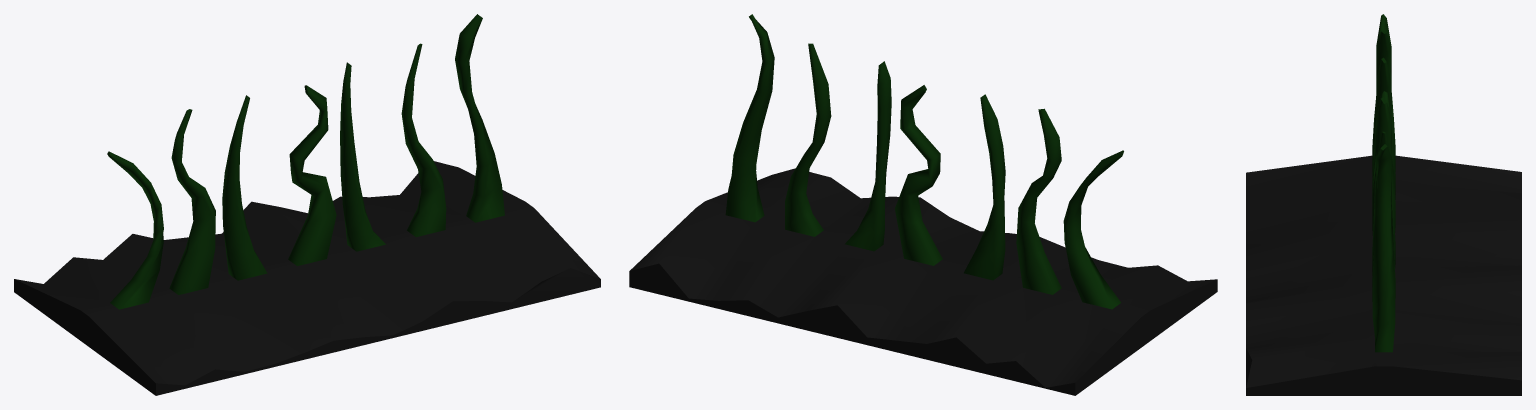
File: SeaWeed1_model.FBX
The picture shows the model from 3 angles, left to right: view 1: azimuth 30°, elevation 25°; view 2: azimuth 150°, elevation 25°; view 3: azimuth 270°, elevation 25°; orthographic projection. The views are drawn at different scales.
Parts seen in each view (by area): view 1: Box001; view 2: Box001; view 3: Box001.
Part boxes in pixels (<box>): Box001: <box>14,14,600,395</box>; Box001: <box>629,14,1217,395</box>; Box001: <box>1246,14,1521,395</box>.
Bounding box in the file's own units: 32.34 × 16.24 × 17.85.
